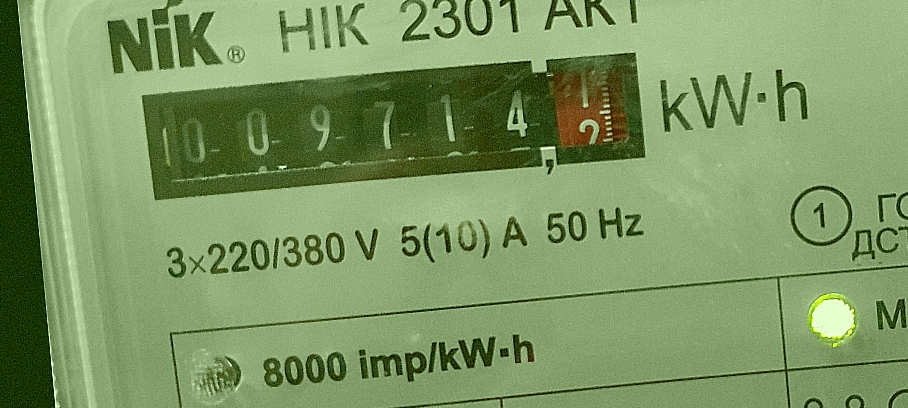0: (176, 112, 210, 168), (240, 103, 271, 158)
1: (433, 88, 461, 145), (573, 66, 591, 110)
2: (575, 114, 601, 146)
4: (498, 85, 531, 142)
7: (369, 96, 400, 152)
9: (302, 99, 335, 154)
screen: (124, 31, 663, 222)
